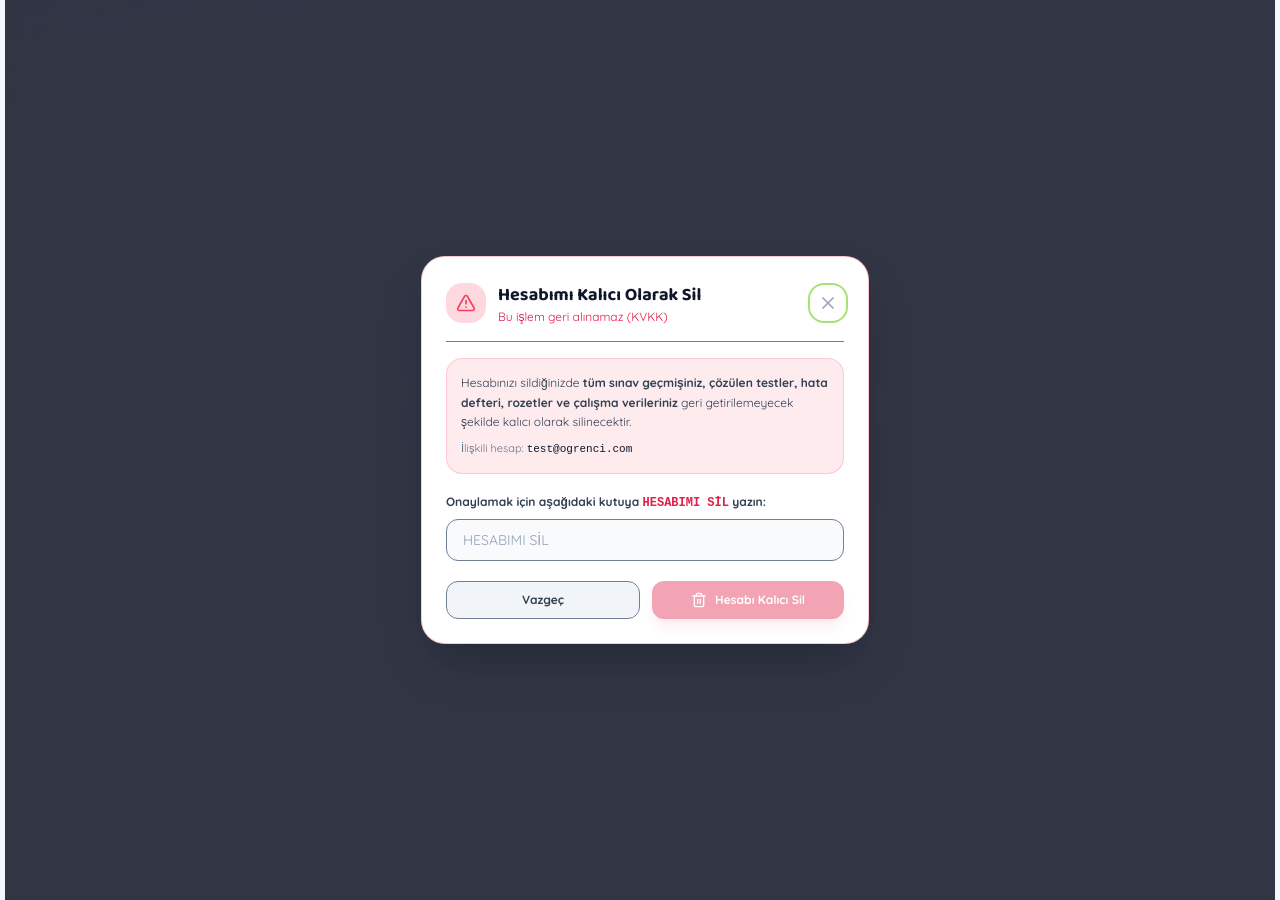
Test: DeleteAccountModal › doğru onay metni yazılana kadar sil butonunu devre dışı tutar
Expected: the heading "Hesabımı Kalıcı Olarak Sil" is shown, [498, 281, 701, 309]
Expected: the button "Hesabı Kalıcı Sil" is disabled, [652, 581, 844, 619]
In the field with placeholder "HESABIMI SİL": (645, 540) [446, 519, 844, 561], type "yanlış metin"
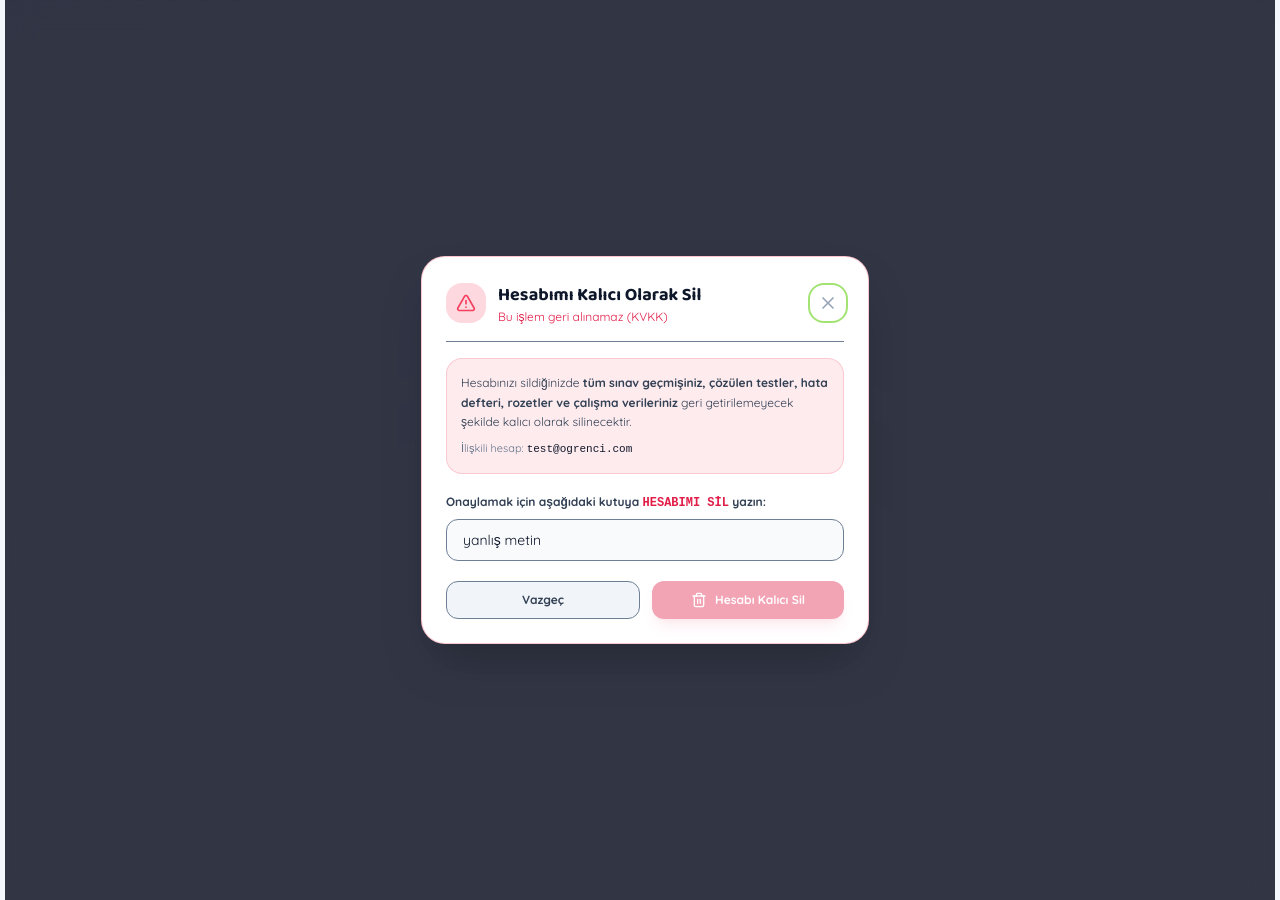
Expected: the button "Hesabı Kalıcı Sil" is disabled, [652, 581, 844, 619]
Replace the text in the field with placeholder "HESABIMI SİL" with "HESABIMI SİL": (645, 540) [446, 519, 844, 561]
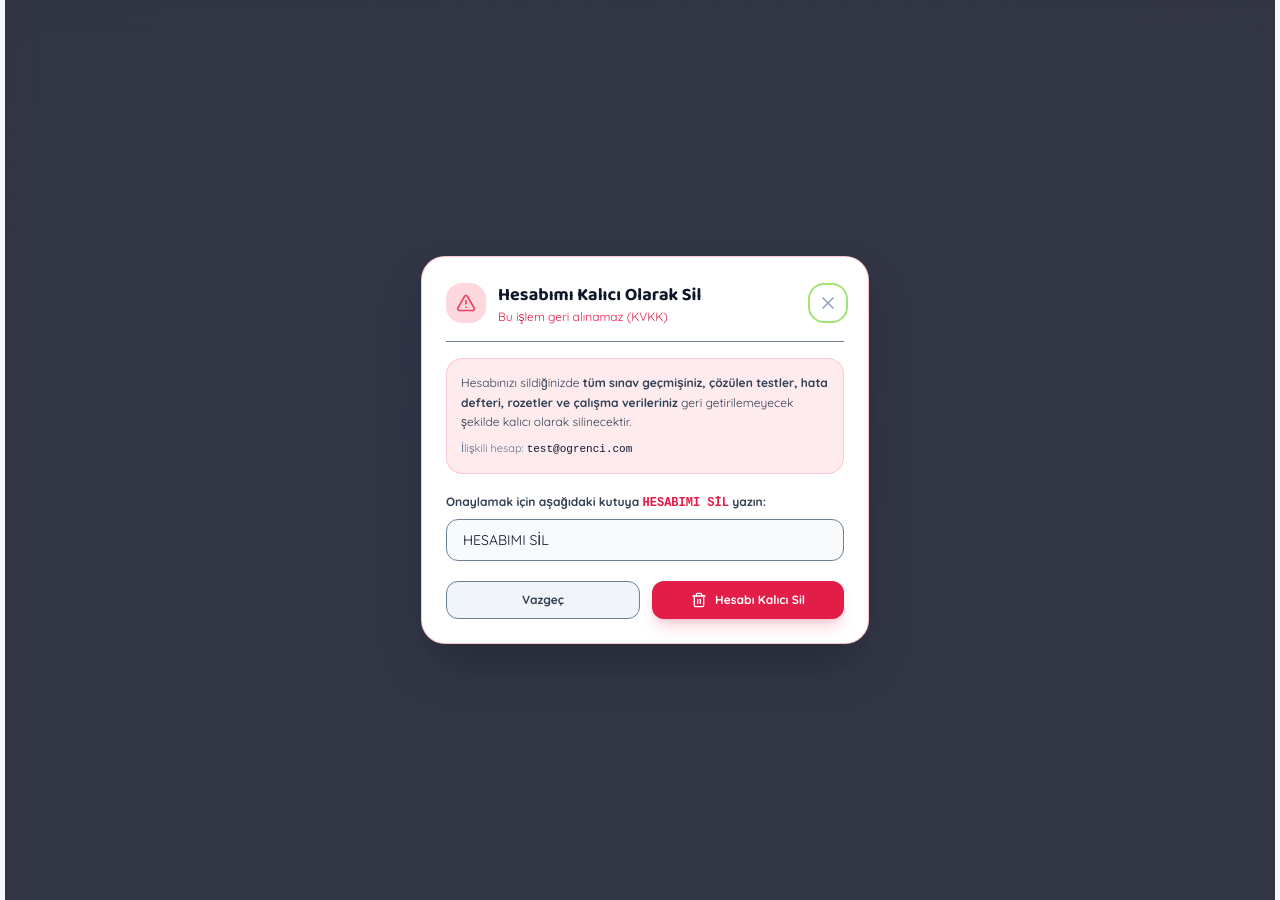
Expected: the button "Hesabı Kalıcı Sil" is enabled, [652, 581, 844, 619]
